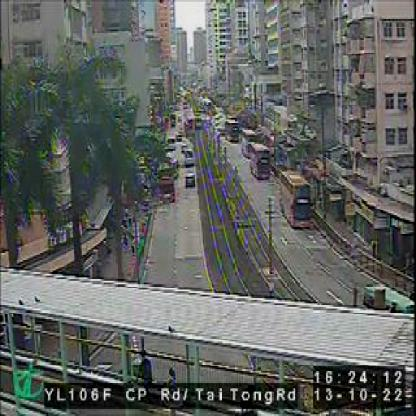Bus: (280, 171, 313, 228), (249, 142, 271, 180), (242, 130, 256, 156)
Car: (186, 171, 196, 188), (184, 151, 195, 166)
